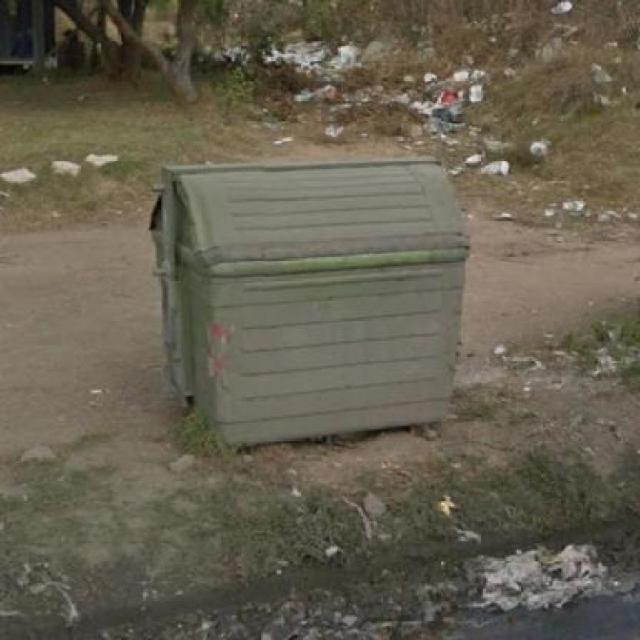garbage: (460, 531, 604, 611), (260, 18, 348, 144), (219, 29, 379, 84), (400, 49, 477, 140), (571, 317, 640, 388), (588, 43, 626, 114), (543, 189, 592, 222), (465, 145, 512, 178), (529, 131, 553, 164)
